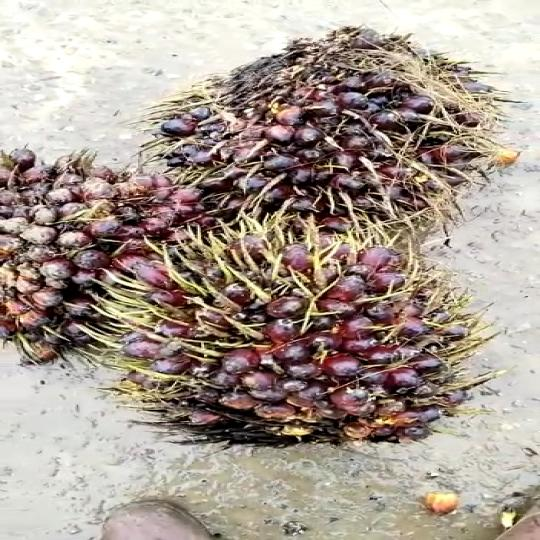kurang masak: (93, 203, 486, 461), (142, 9, 510, 235), (0, 130, 179, 360)
